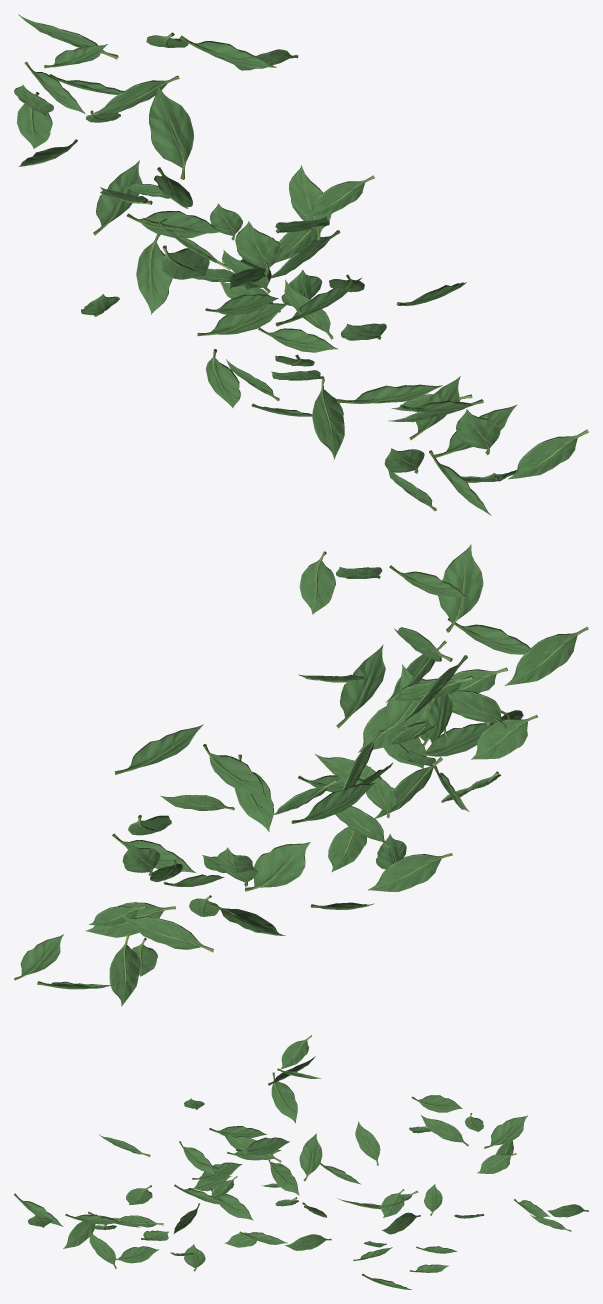
The model's file is holy_canopy3_full.glb.
3 views of the same model, one above another, from view 1: azimuth 30°, elevation 25°; view 2: azimuth 150°, elevation 25°; view 3: azimuth 270°, elevation 25° (orthographic). The views are drawn at different scales.
Parts seen in each view (by area): view 1: holy_canopy3; view 2: holy_canopy3; view 3: holy_canopy3.
Boxes of the visible parts, bbox=[...] form: holy_canopy3: bbox=[14, 14, 588, 515]; holy_canopy3: bbox=[14, 544, 588, 1006]; holy_canopy3: bbox=[14, 1035, 588, 1289].
Size of the model in its own units: 8.92 by 10.59 by 26.95.
1 material, 1 textured.
